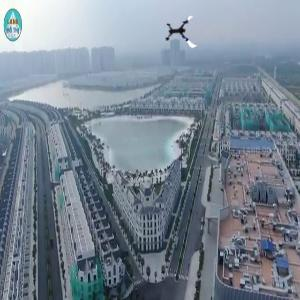drone: (164, 13, 202, 51)
